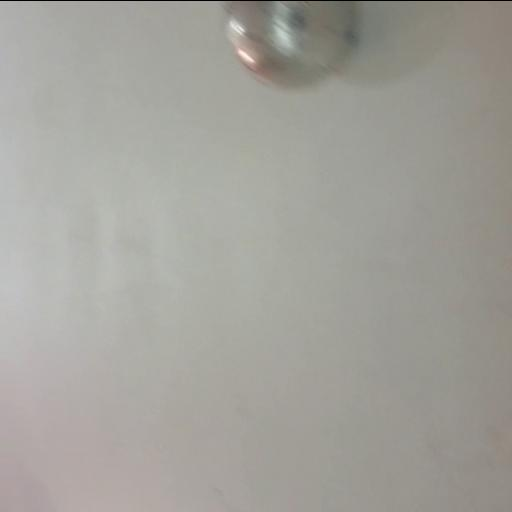alive: (216, 2, 356, 90)
